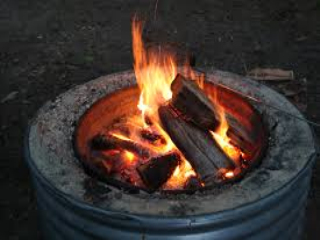fire: (113, 24, 224, 166)
